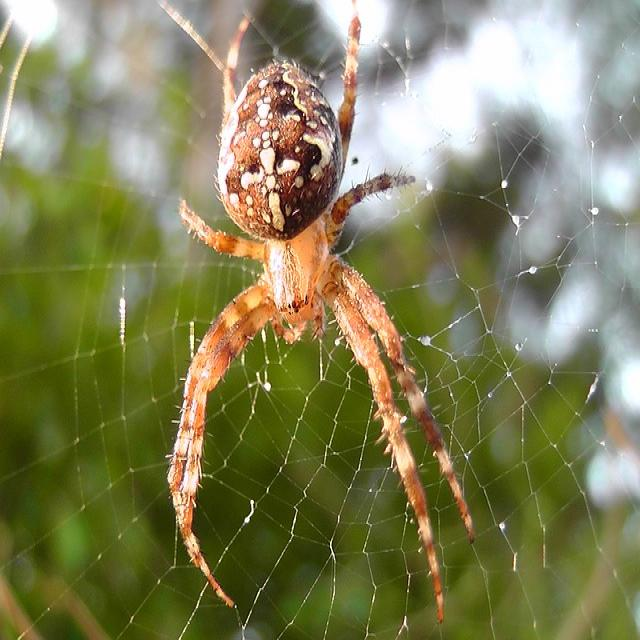spyder: (167, 0, 476, 624)
